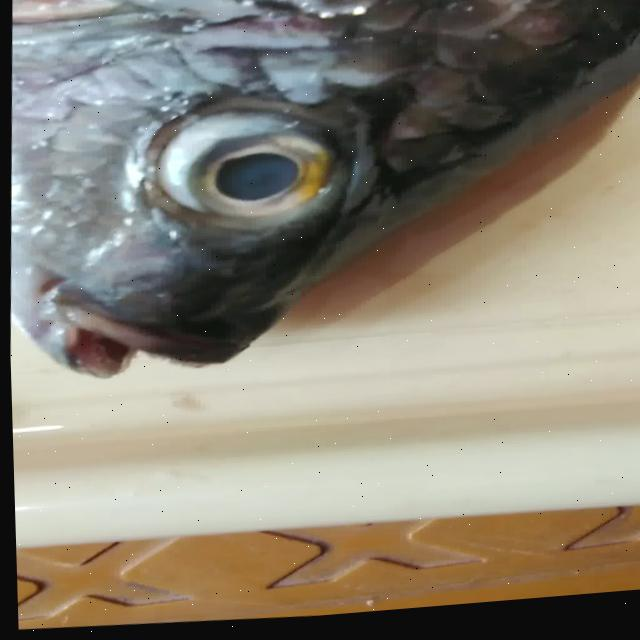Fresh: (109, 81, 374, 261)
